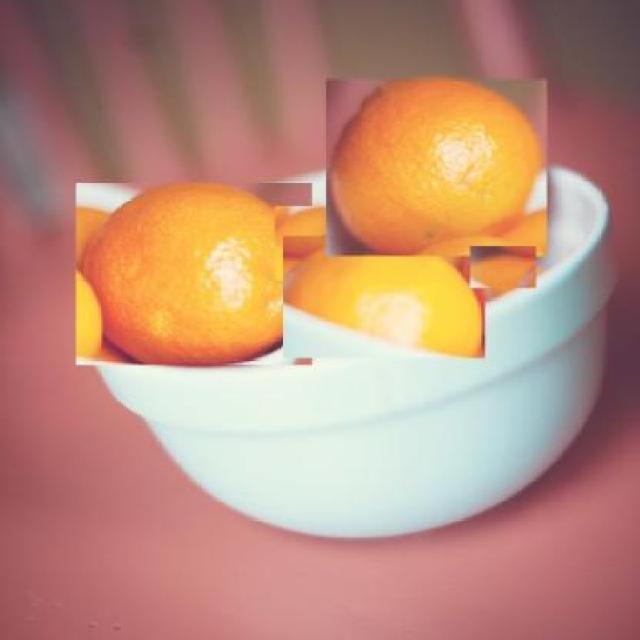Orange: (75, 182, 312, 366), (326, 79, 546, 256), (284, 236, 484, 358)
